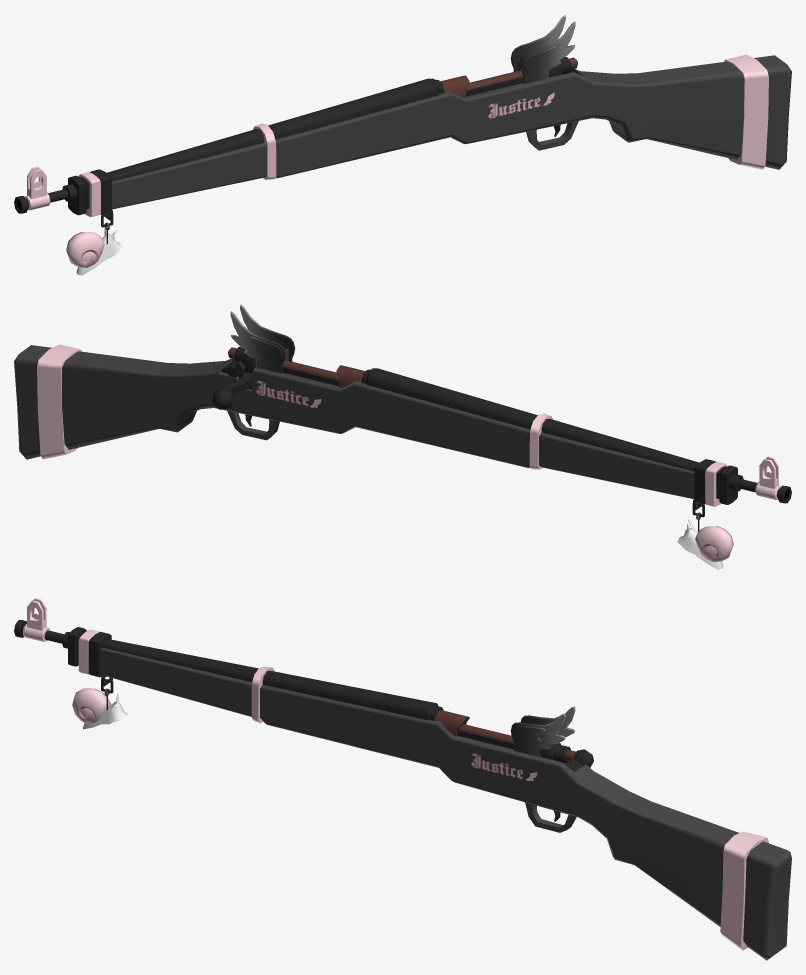
The model's file is aru_gun.glb.
3 renders of one model, top to bottom at view 1: azimuth 30°, elevation 25°; view 2: azimuth 150°, elevation 25°; view 3: azimuth 330°, elevation 25°, orthographic.
Parts seen in each view (by area): view 1: Object_2, Object_3; view 2: Object_2, Object_3; view 3: Object_2, Object_3.
Boxes of the visible parts, <box> form: Object_2: <box>14,14,791,275</box>; Object_3: <box>466,57,577,90</box>; Object_2: <box>14,304,791,569</box>; Object_3: <box>212,346,339,409</box>; Object_2: <box>14,598,791,960</box>; Object_3: <box>459,724,593,767</box>.
Bounding box in the file's own units: 0.7576 × 0.1857 × 0.0715.
Materials: 2 (2 with a texture image).
